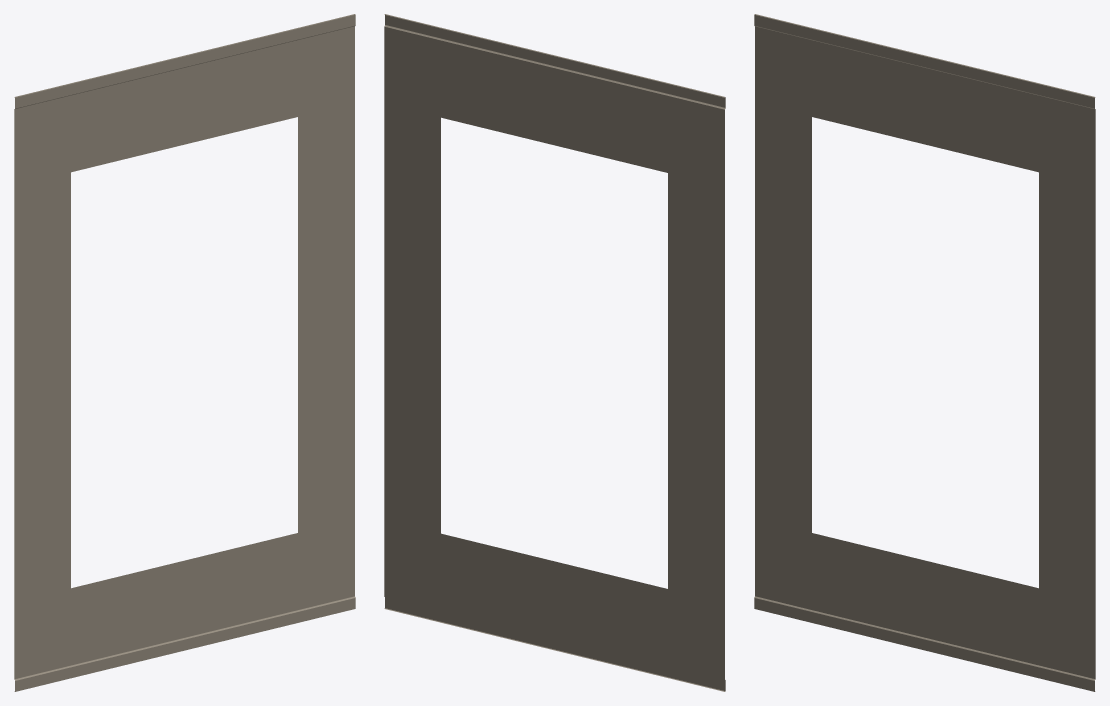
The model's file is Wall_3x5__SingleWindow_NonUniformSize.fbx.
3 renders of one model, left to right at view 1: azimuth 30°, elevation 25°; view 2: azimuth 150°, elevation 25°; view 3: azimuth 330°, elevation 25°, orthographic.
Parts seen in each view (by area): view 1: Wall_3x5__SingleWindow_NonUniformSize; view 2: Wall_3x5__SingleWindow_NonUniformSize; view 3: Wall_3x5__SingleWindow_NonUniformSize.
Part boxes in pixels (x1,y1,x2,y2): Wall_3x5__SingleWindow_NonUniformSize: [14, 14, 355, 691]; Wall_3x5__SingleWindow_NonUniformSize: [384, 14, 725, 691]; Wall_3x5__SingleWindow_NonUniformSize: [754, 14, 1095, 691].
Bounding box in the file's own units: 3 × 5 × 0.015.
